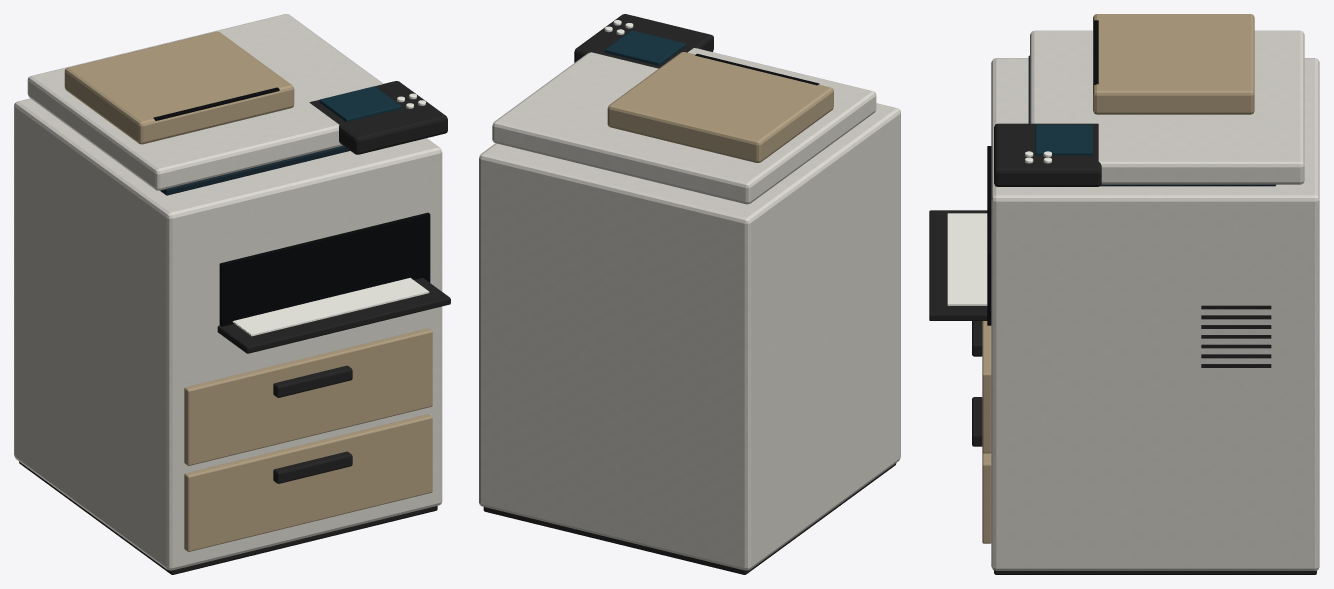
File: OAA_Mesin_Fotokopi_Printer.fbx
The picture shows the model from 3 angles, left to right: view 1: azimuth 30°, elevation 25°; view 2: azimuth 150°, elevation 25°; view 3: azimuth 270°, elevation 25°; orthographic projection. The views are drawn at different scales.
Parts seen in each view (by area): view 1: Body, Copier_Lid_Hinge_Mesh; view 2: Body, Copier_Lid_Hinge_Mesh; view 3: Body, Copier_Lid_Hinge_Mesh.
Boxes of the visible parts, x1,y1,x2,y2 form: Body: [14, 81, 450, 574]; Copier_Lid_Hinge_Mesh: [27, 14, 383, 190]; Body: [479, 14, 900, 574]; Copier_Lid_Hinge_Mesh: [492, 48, 876, 204]; Body: [929, 55, 1319, 574]; Copier_Lid_Hinge_Mesh: [1030, 14, 1304, 184].
Size of the model in its own units: 0.635 by 0.9065 by 0.7255.
